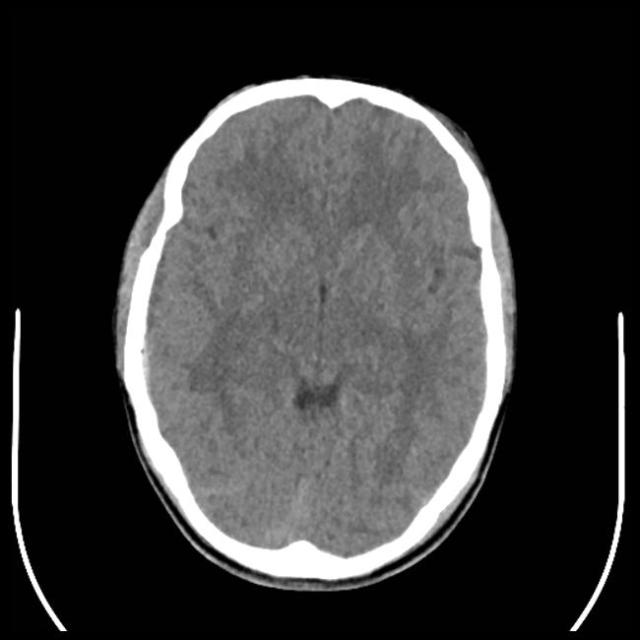lesion: (110, 74, 520, 586)
